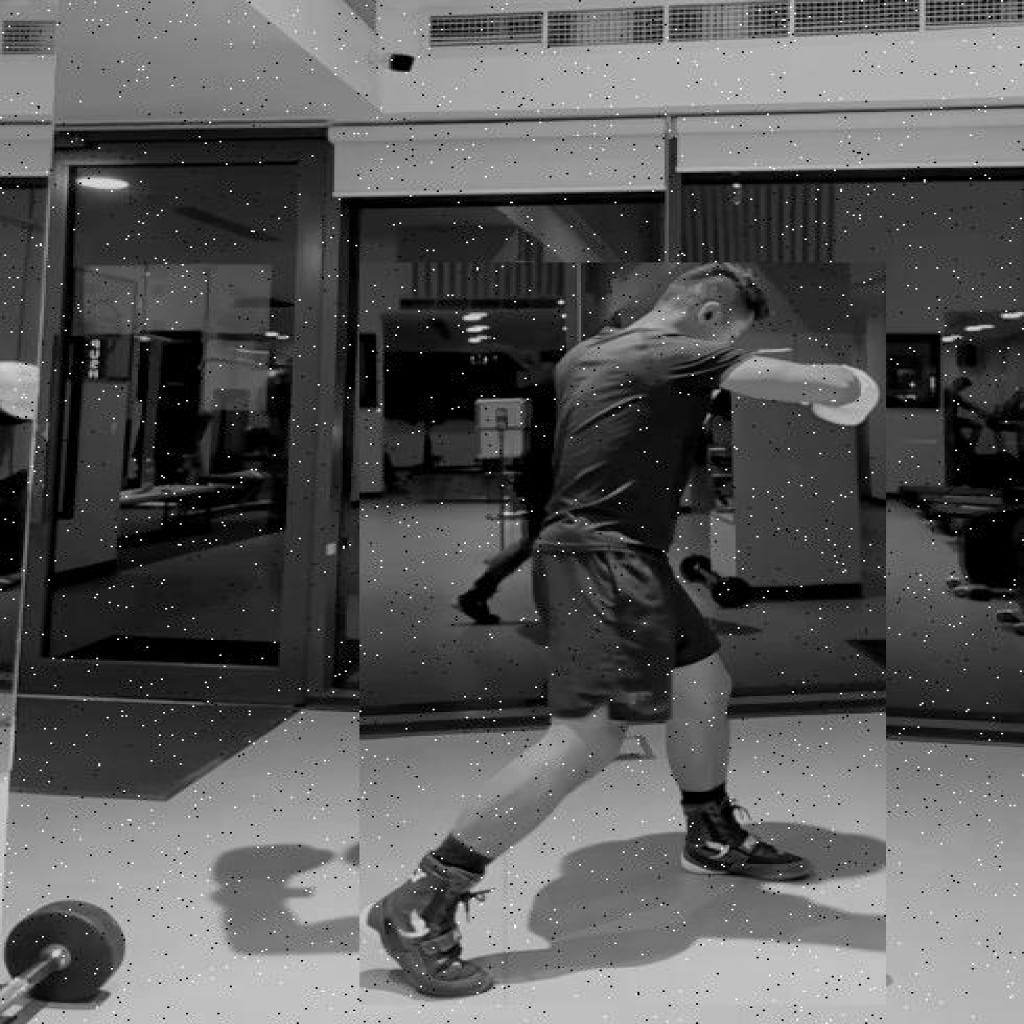hook: (360, 262, 886, 1006)
